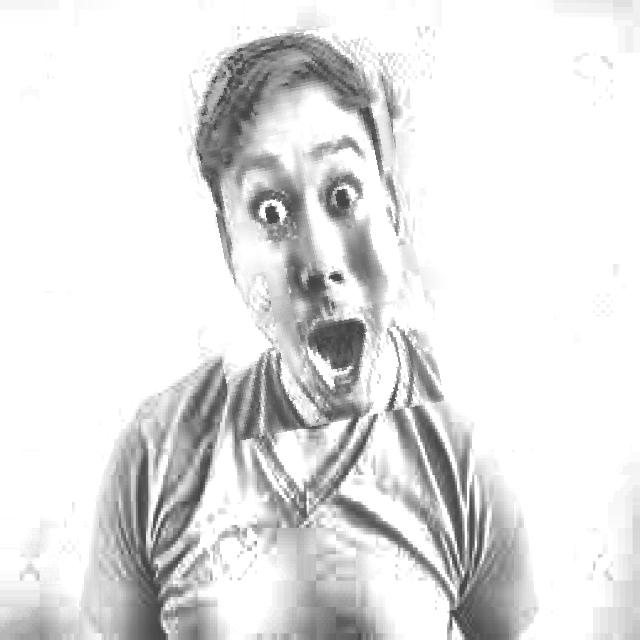surprise: (180, 27, 427, 433)
